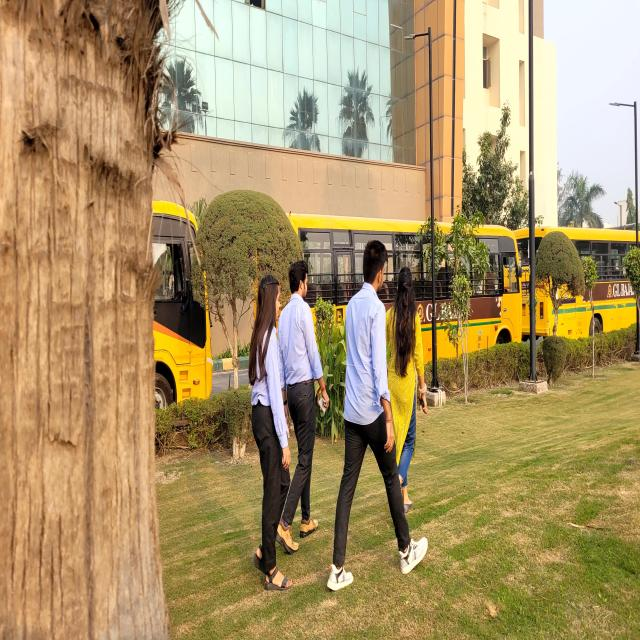unsafe: (332, 239, 394, 584), (282, 261, 327, 549), (248, 270, 288, 585), (388, 264, 427, 496)
